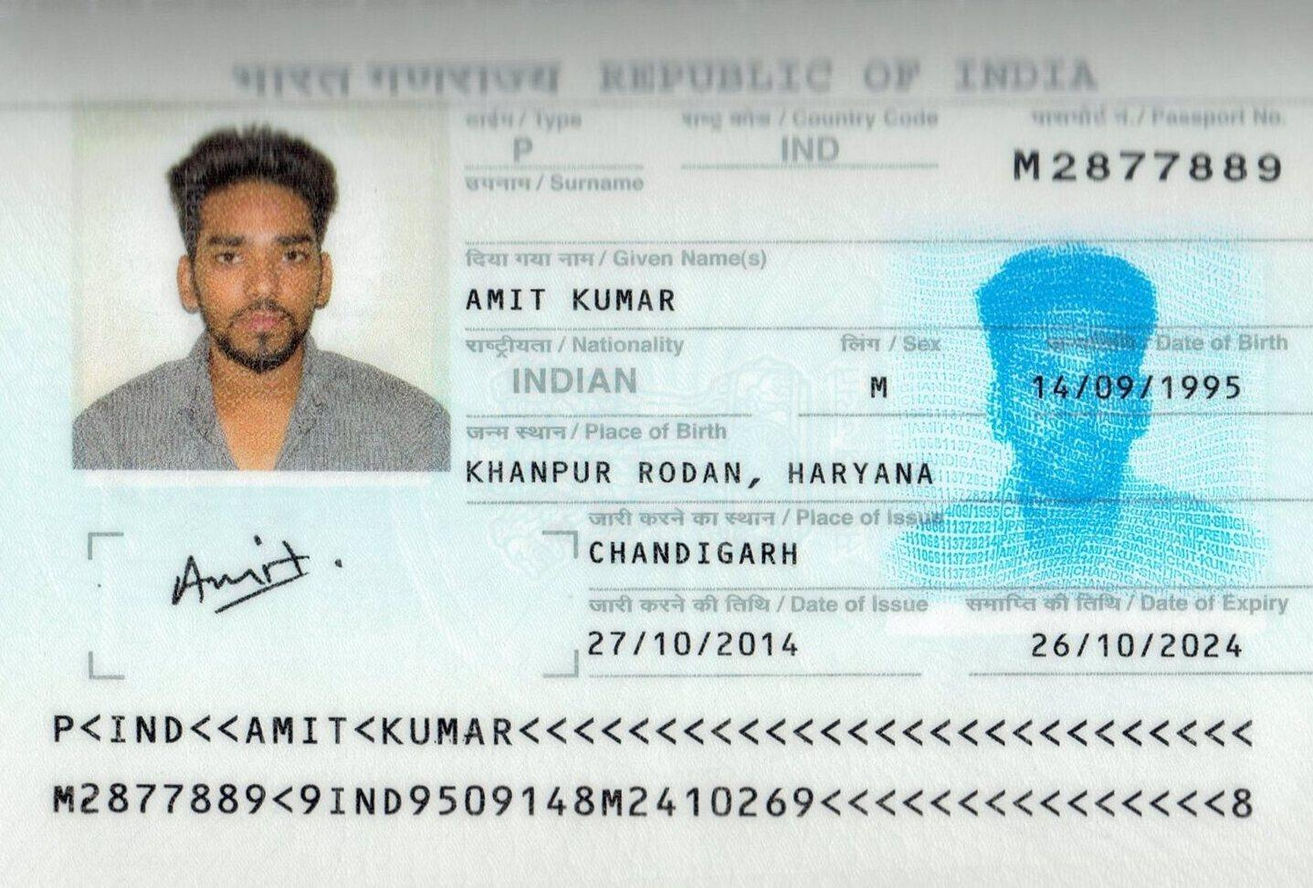DOB: (996, 353, 1304, 415)
country_code: (747, 120, 890, 168)
date_of_expiry: (993, 619, 1304, 672)
date_of_issue: (578, 610, 905, 668)
details: (17, 689, 1305, 870)
name: (459, 267, 775, 321)
nationality: (460, 351, 784, 405)
passport_no: (980, 131, 1313, 189)
photo: (83, 112, 442, 475)
place_of_birth: (463, 420, 1076, 496)
place_of_issue: (575, 526, 817, 583)
sex: (828, 349, 942, 408)
sign: (81, 524, 547, 652)
type: (473, 122, 606, 172)
